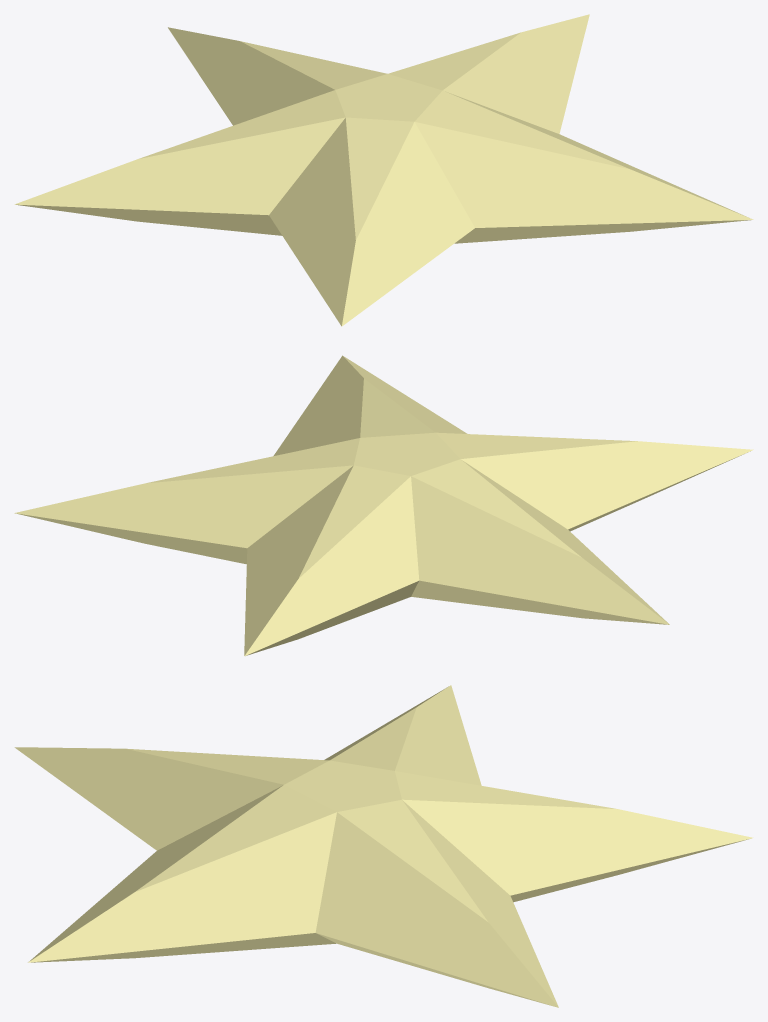
The model's file is Underwater_Temple_Sea_Starfish_01.fbx.
3 renders of one model, top to bottom at view 1: azimuth 30°, elevation 25°; view 2: azimuth 150°, elevation 25°; view 3: azimuth 270°, elevation 25°, orthographic. The views are drawn at different scales.
Visible parts, largest first — view 1: Underwater_Temple_Sea_Starfish_01; view 2: Underwater_Temple_Sea_Starfish_01; view 3: Underwater_Temple_Sea_Starfish_01.
Boxes of the visible parts, x1,y1,x2,y2 form: Underwater_Temple_Sea_Starfish_01: [14, 14, 753, 326]; Underwater_Temple_Sea_Starfish_01: [14, 355, 753, 656]; Underwater_Temple_Sea_Starfish_01: [14, 685, 753, 1007].
Bounding box in the file's own units: 0.2111 × 0.0401 × 0.2044.
